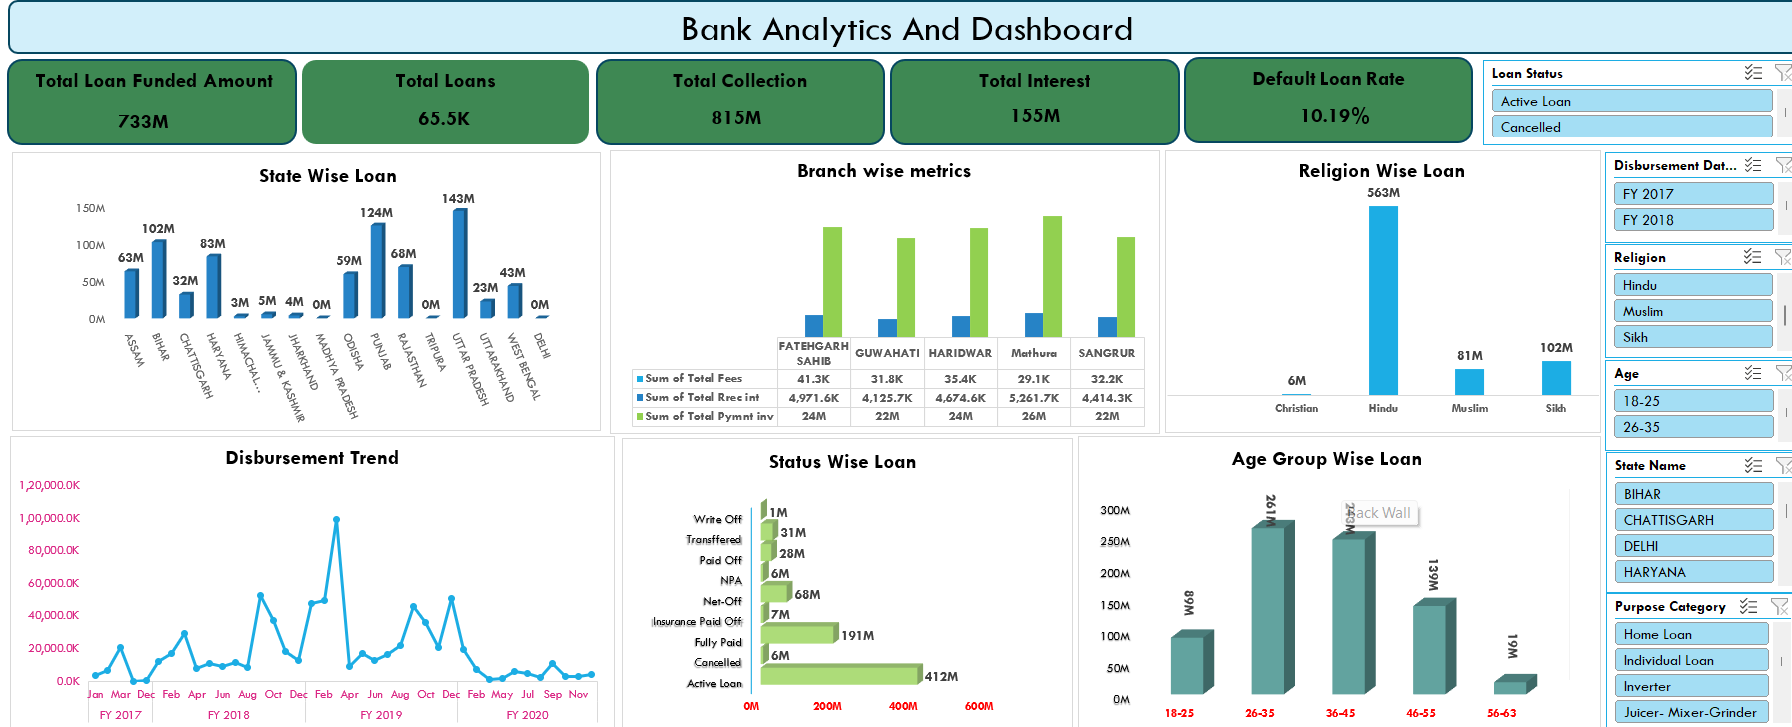

The dashboard page shown, as its layout file describes it:
{"tool":"tableau","page":{"name":"Dashboard 1","canvas":[1000,1000],"units":"permille","ordinal":0},"visuals":[{"type":"image","param":"Image/images.jpg","box":[4.8,9.9,66.9,82.6]},{"type":"text","box":[71.7,9.9,879.3,82.6]},{"type":"blank","box":[951.1,9.9,44.1,82.6]},{"type":"dashboard-object","box":[949.9,14.8,45.3,56.7]},{"type":"filter","title":"Q10 Loan disbursement over time period","param":"[federated.082xyb91pkq4ik1ar4ypj170mzds].[tmn:Disbursement Date:qk]","box":[4.8,92.4,197.9,87.5]},{"type":"filter","title":"Q1 Total Funded Amount","param":"[federated.082xyb91pkq4ik1ar4ypj170mzds].[none:State Name:nk]","box":[202.7,92.4,197.9,77.7]},{"type":"filter","title":"Q7 Religion wise loan amount","param":"[federated.082xyb91pkq4ik1ar4ypj170mzds].[none:Calculation_583779106862264324:nk","box":[400.6,92.4,198.5,77.7]},{"type":"filter","title":"Q16 Age group wise loans","param":"[federated.082xyb91pkq4ik1ar4ypj170mzds].[none:Age:nk]","box":[599.1,92.4,198,77.7]},{"type":"filter","title":"Q15 Loan status wise loans","param":"[federated.082xyb91pkq4ik1ar4ypj170mzds].[none:Loan Status:nk]","box":[797.1,92.4,198.1,77.7]},{"type":"worksheet","title":"Q1 Total Funded Amount","mark":"Automatic","box":[4.8,180,198.1,111]},{"type":"worksheet","title":"Q3 Sum of Total Payments","mark":"Automatic","box":[202.9,180,198.1,111]},{"type":"worksheet","title":"Q2 Count of Funded Amount","mark":"Automatic","box":[400.9,180,198.1,111]},{"type":"worksheet","title":"Q4 Sum of Total Interest","mark":"Automatic","box":[599,180,198.1,111]},{"type":"worksheet","title":"Q13 Default Loan Rate","mark":"Automatic","box":[797.1,180,198.1,111]},{"type":"worksheet","title":"Q6 State wise loan","mark":"Automatic","rows":["State Name"],"cols":["Loan Amount"],"box":[4.8,290.9,343.3,335.4]},{"type":"worksheet","title":"Q5 Branch wise total payments","mark":"Automatic","rows":["Branch Name"],"cols":["Total Pymnt inv"],"box":[348.1,290.9,339.8,335.4]},{"type":"worksheet","title":"Q7 Religion wise loan amount","mark":"Pie","rows":["Calculation_583779106861121537","Calculation_583779106861133827"],"box":[687.9,290.9,307.2,335.4]},{"type":"worksheet","title":"Q10 Loan disbursement over time period","mark":"Automatic","rows":["Loan Amount"],"cols":["Disbursement Date"],"box":[4.8,626.3,343.3,363.8]},{"type":"worksheet","title":"Q15 Loan status wise loans","mark":"Automatic","rows":["Loan Status"],"cols":["Loan Amount"],"box":[348.1,626.3,339.8,363.8]},{"type":"worksheet","title":"Q16 Age group wise loans","mark":"Automatic","box":[687.9,626.3,307.2,363.8]}]}

Visuals, with their boxes on the dashboard's canvas, which has no fixed pixel size, in thousandths of its width and height (x1, y1, x2, y2). These are canvas units, not pixel positions in the 1792x727 screenshot, which may show the page scaled, cropped or inside an application window:
image: {"x1": 5, "y1": 10, "x2": 72, "y2": 92}
text: {"x1": 72, "y1": 10, "x2": 951, "y2": 92}
blank: {"x1": 951, "y1": 10, "x2": 995, "y2": 92}
dashboard-object: {"x1": 950, "y1": 15, "x2": 995, "y2": 72}
"Q10 Loan disbursement over time period" filter: {"x1": 5, "y1": 92, "x2": 203, "y2": 180}
"Q1 Total Funded Amount" filter: {"x1": 203, "y1": 92, "x2": 401, "y2": 170}
"Q7 Religion wise loan amount" filter: {"x1": 401, "y1": 92, "x2": 599, "y2": 170}
"Q16 Age group wise loans" filter: {"x1": 599, "y1": 92, "x2": 797, "y2": 170}
"Q15 Loan status wise loans" filter: {"x1": 797, "y1": 92, "x2": 995, "y2": 170}
"Q1 Total Funded Amount" worksheet: {"x1": 5, "y1": 180, "x2": 203, "y2": 291}
"Q3 Sum of Total Payments" worksheet: {"x1": 203, "y1": 180, "x2": 401, "y2": 291}
"Q2 Count of Funded Amount" worksheet: {"x1": 401, "y1": 180, "x2": 599, "y2": 291}
"Q4 Sum of Total Interest" worksheet: {"x1": 599, "y1": 180, "x2": 797, "y2": 291}
"Q13 Default Loan Rate" worksheet: {"x1": 797, "y1": 180, "x2": 995, "y2": 291}
"Q6 State wise loan" worksheet: {"x1": 5, "y1": 291, "x2": 348, "y2": 626}
"Q5 Branch wise total payments" worksheet: {"x1": 348, "y1": 291, "x2": 688, "y2": 626}
"Q7 Religion wise loan amount" worksheet (Pie marks): {"x1": 688, "y1": 291, "x2": 995, "y2": 626}
"Q10 Loan disbursement over time period" worksheet: {"x1": 5, "y1": 626, "x2": 348, "y2": 990}
"Q15 Loan status wise loans" worksheet: {"x1": 348, "y1": 626, "x2": 688, "y2": 990}
"Q16 Age group wise loans" worksheet: {"x1": 688, "y1": 626, "x2": 995, "y2": 990}
